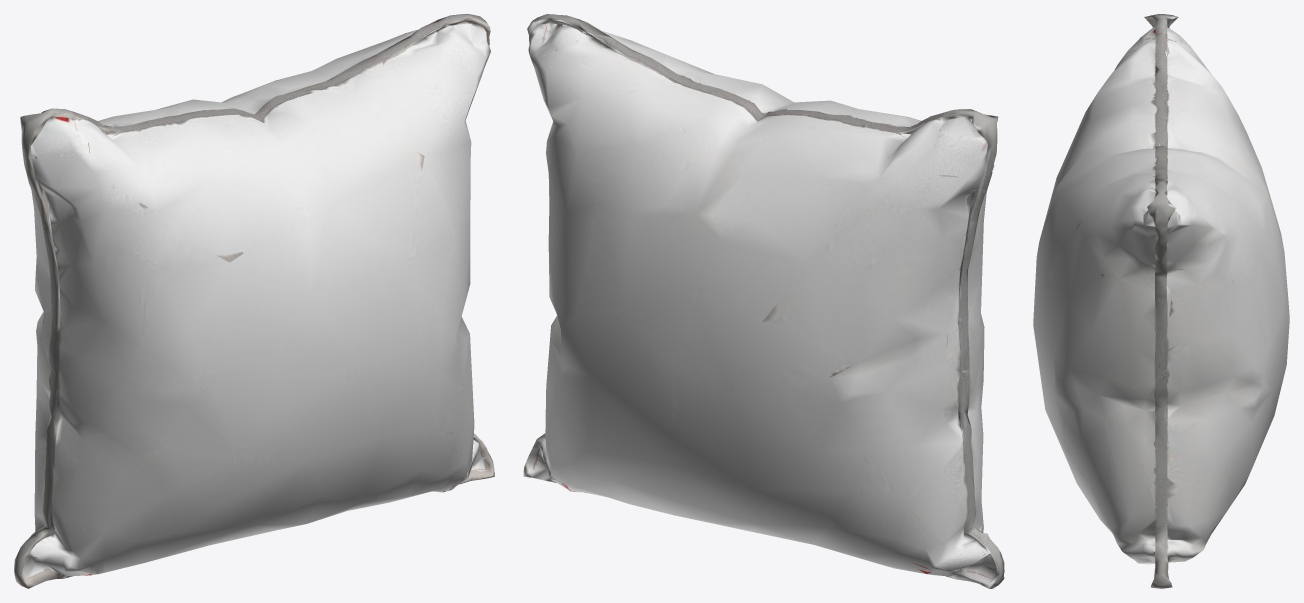
3 renders of one model, left to right at view 1: azimuth 30°, elevation 25°; view 2: azimuth 150°, elevation 25°; view 3: azimuth 270°, elevation 25°, orthographic. The views are drawn at different scales.
Visible parts, largest first — view 1: Bat; view 2: Bat; view 3: Bat.
Part boxes in pixels (x1,y1,x2,y2): Bat: (14,14,494,588); Bat: (523,14,1004,588); Bat: (1033,14,1289,588).
Size of the model in its own units: 1.9 by 1.8 by 1.07.
Materials: 1 (1 with a texture image).
